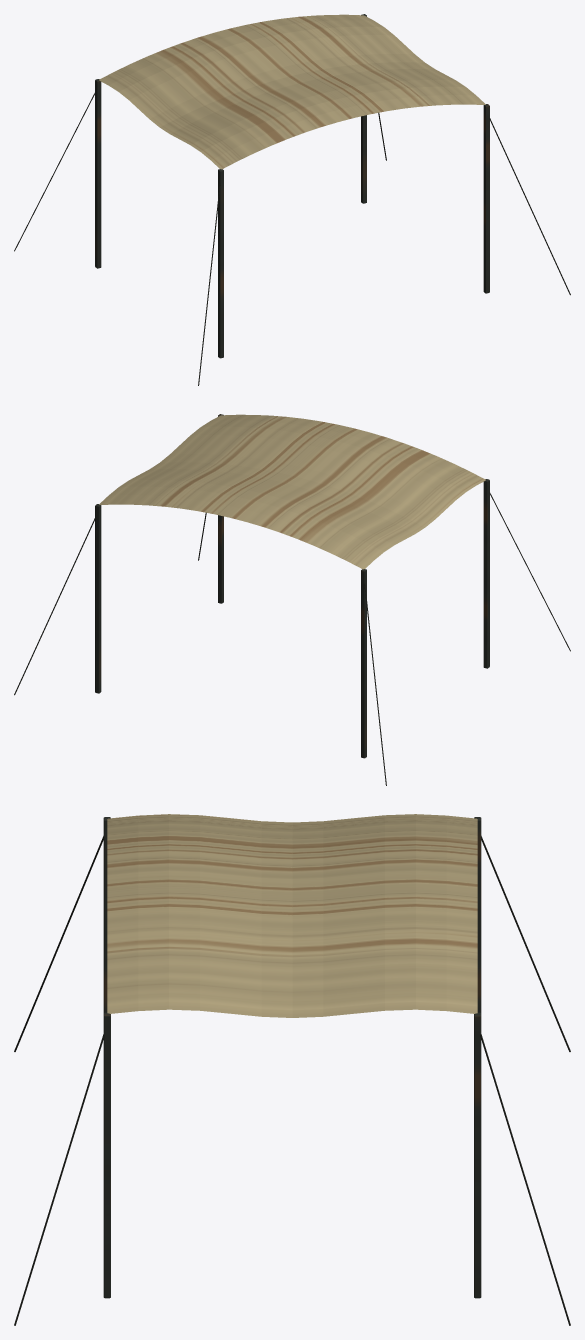
The model's file is service-canopy.obj.
3 views of the same model, one above another, from view 1: azimuth 30°, elevation 25°; view 2: azimuth 150°, elevation 25°; view 3: azimuth 270°, elevation 25° (orthographic). The views are drawn at different scales.
Visible parts, largest first — view 1: service-canopy; view 2: service-canopy; view 3: service-canopy.
Part boxes in pixels (left/top/right/bottom): service-canopy: left=14, top=14, right=570, bottom=385; service-canopy: left=14, top=414, right=570, bottom=785; service-canopy: left=14, top=814, right=570, bottom=1325.
Bounding box in the file's own units: 5.61 × 3.02 × 4.81.
1 material, 1 textured.
